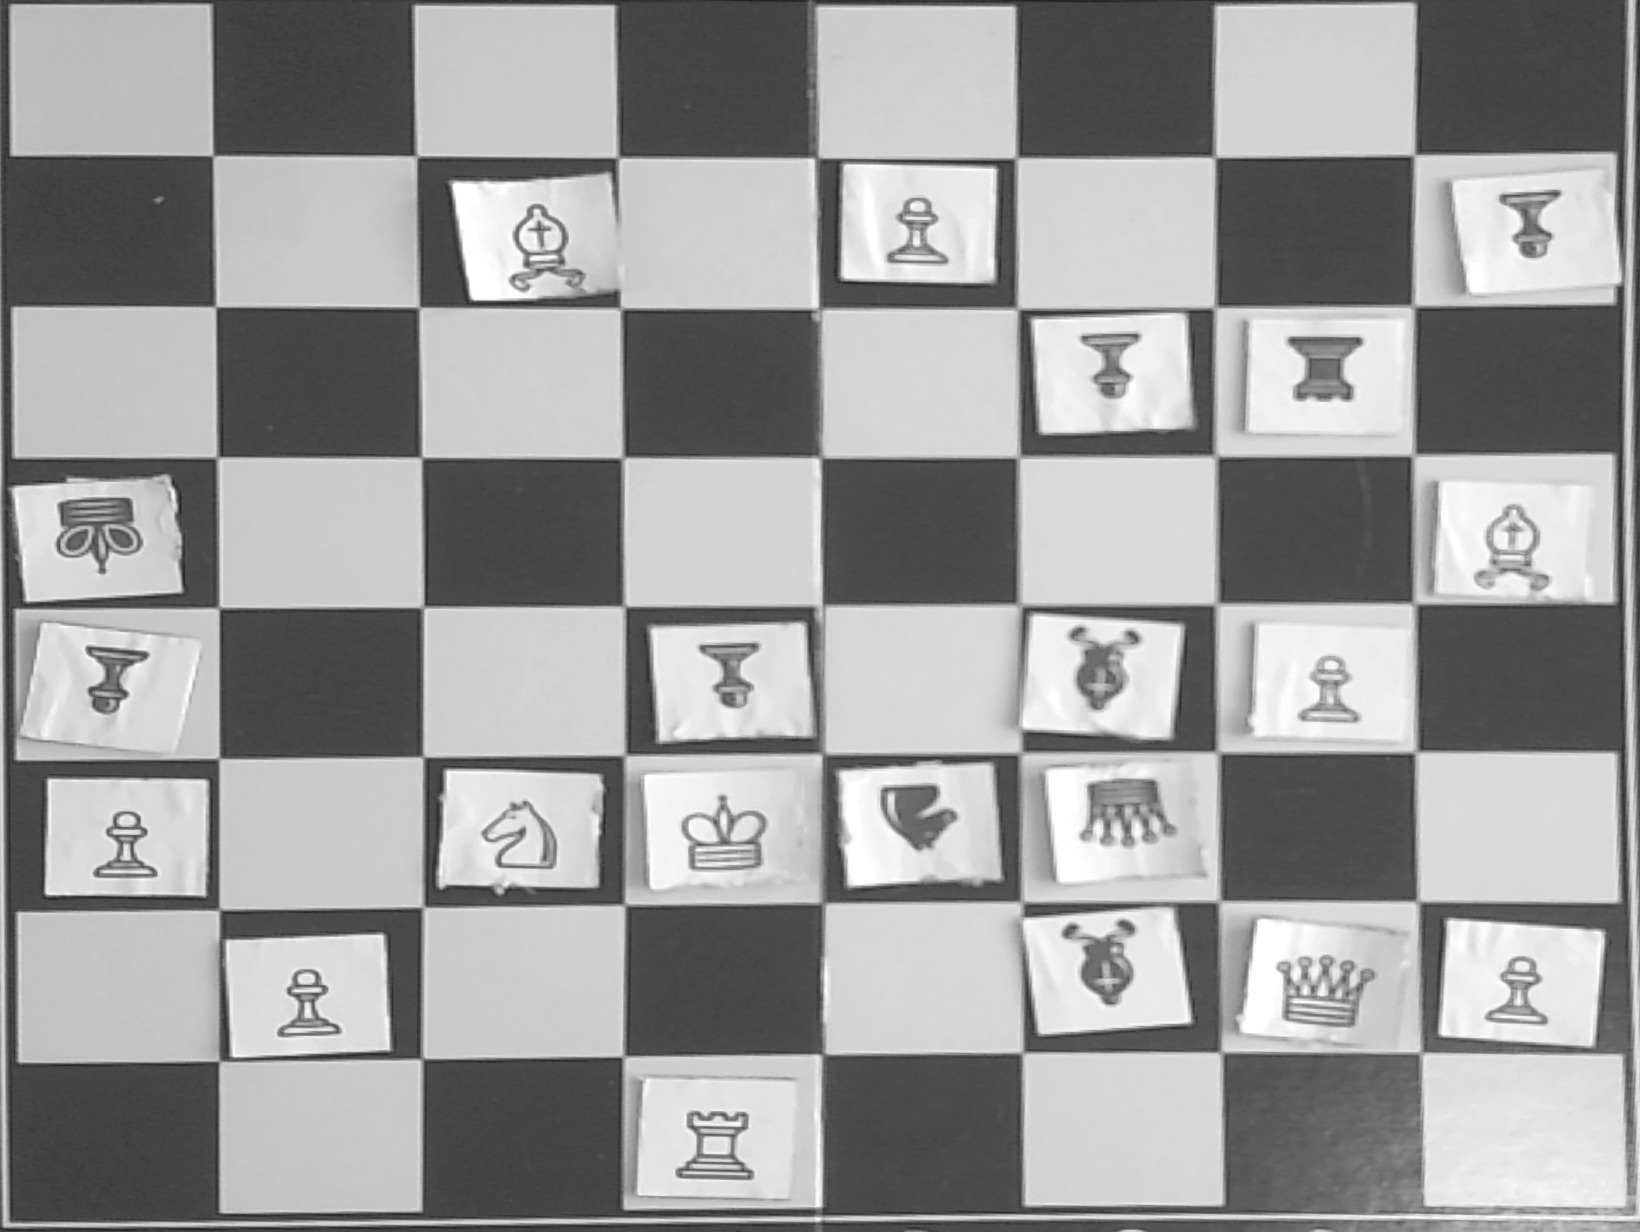b_bishop: (1039, 619, 1162, 726)
b_king: (38, 487, 158, 589)
b_knight: (854, 774, 979, 872)
b_pawn: (1472, 182, 1586, 278), (667, 630, 782, 725), (1055, 322, 1169, 417), (50, 639, 164, 734)
b_queen: (1060, 767, 1193, 870)
b_rook: (1262, 322, 1384, 426)
w_bishop: (1446, 490, 1577, 594), (478, 189, 607, 292)
w_king: (659, 782, 788, 879)
w_knight: (461, 780, 582, 883)
w_pawn: (1051, 916, 1153, 1008), (252, 962, 353, 1053), (866, 184, 968, 274), (1278, 642, 1380, 732), (1459, 934, 1561, 1025)
w_queen: (1261, 934, 1388, 1044)
w_rook: (664, 1087, 774, 1194)
